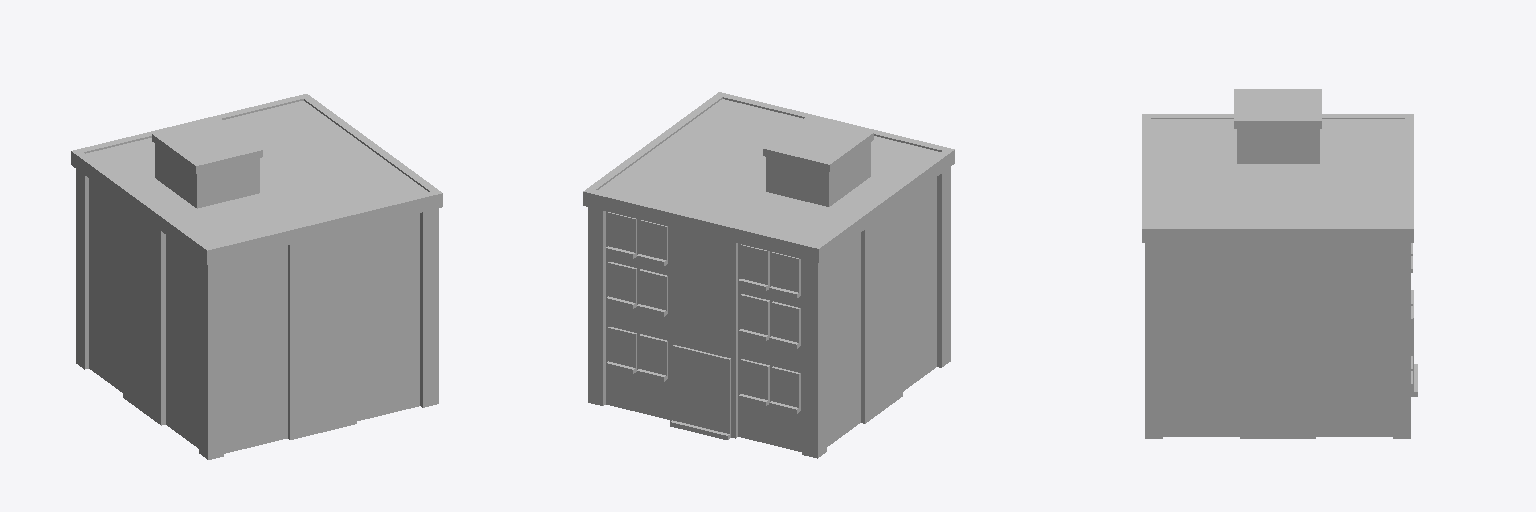
Rendered from edificio.obj.
3 views of the same model, side by side, from view 1: azimuth 30°, elevation 25°; view 2: azimuth 150°, elevation 25°; view 3: azimuth 270°, elevation 25° (orthographic).
Parts seen in each view (by area): view 1: apartment_small_mesh; view 2: apartment_small_mesh; view 3: apartment_small_mesh.
Part boxes in pixels (x1,y1,x2,y2): apartment_small_mesh: (71, 94, 442, 459); apartment_small_mesh: (583, 92, 954, 458); apartment_small_mesh: (1142, 89, 1417, 438).
Size of the model in its own units: 11.63 by 11.95 by 11.82.